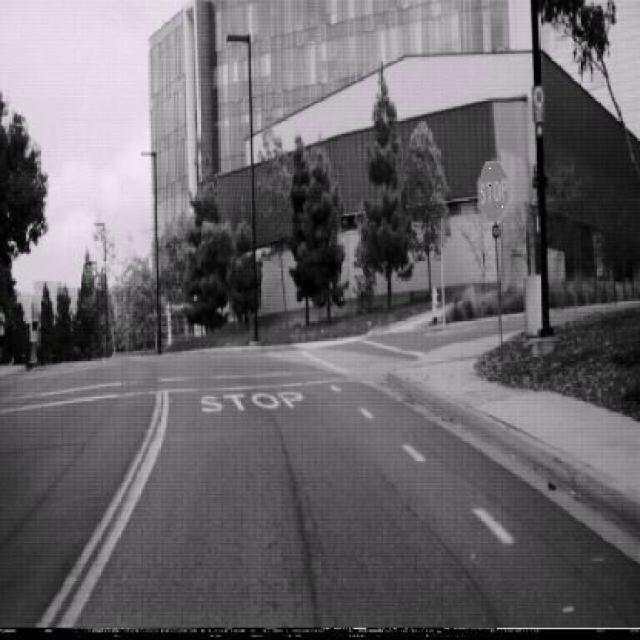stop: (477, 158, 510, 224)
